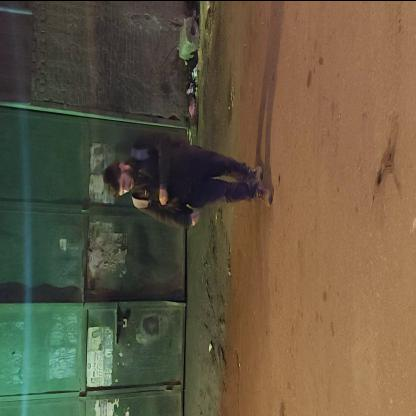long weapon: (142, 178, 202, 234)
